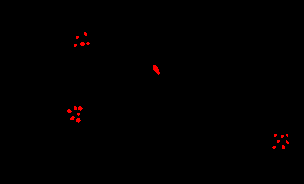Target: (153, 65, 160, 75), (78, 106, 83, 111), (76, 118, 81, 123), (80, 42, 85, 46), (67, 109, 72, 113), (70, 116, 75, 120), (84, 32, 87, 36), (86, 42, 90, 45), (74, 106, 77, 110), (286, 140, 289, 144), (282, 145, 285, 149), (272, 146, 276, 149), (76, 36, 79, 39), (74, 44, 77, 47), (77, 113, 80, 116), (274, 134, 277, 137), (281, 135, 284, 138), (277, 140, 280, 143), (286, 134, 288, 137)
